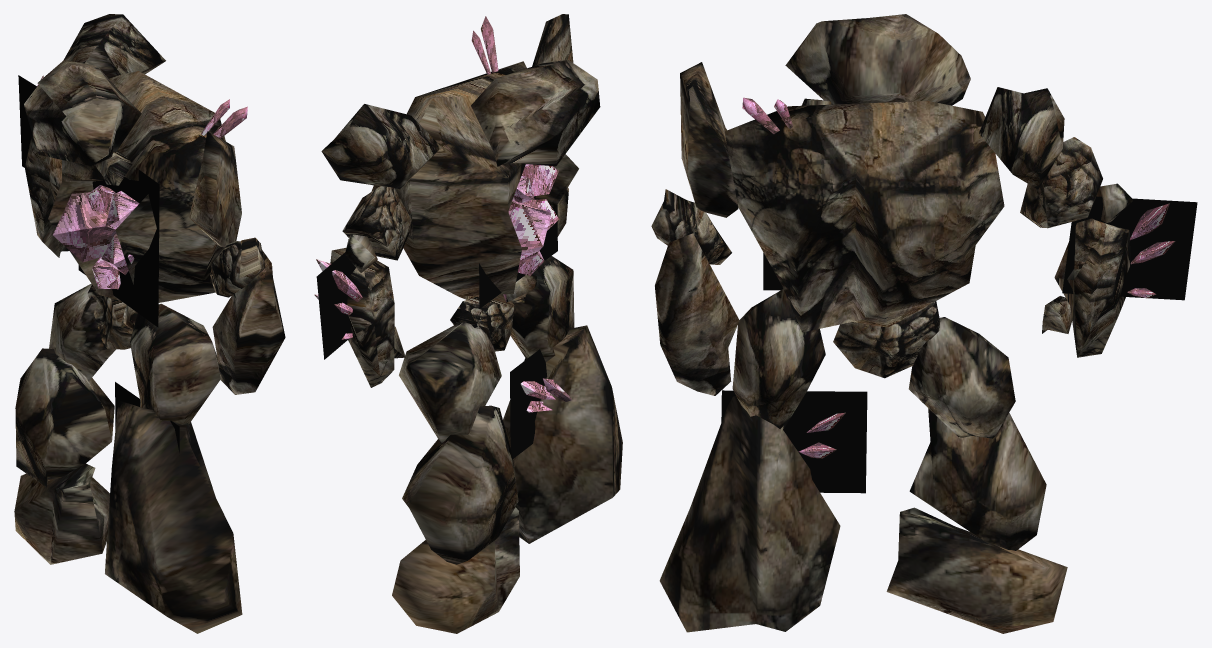
File: bst51a.obj
The picture shows the model from 3 angles, left to right: view 1: azimuth 30°, elevation 25°; view 2: azimuth 150°, elevation 25°; view 3: azimuth 270°, elevation 25°; orthographic projection. The views are drawn at different scales.
Visible parts, largest first — view 1: CREATURE10, REC0, RECTA0, RECTANG0; view 2: CREATURE10, RECTANG0, RECTA0, REC0; view 3: CREATURE10, RECTANG0, RECTA0.
Part boxes in pixels (<box>): CREATURE10: <box>14,14,285,633</box>; REC0: <box>78,169,159,327</box>; RECTA0: <box>18,75,36,167</box>; RECTANG0: <box>115,382,179,452</box>; CREATURE10: <box>314,14,622,633</box>; RECTANG0: <box>510,349,546,458</box>; RECTA0: <box>316,252,355,359</box>; REC0: <box>479,196,557,308</box>; CREATURE10: <box>651,14,1175,633</box>; RECTANG0: <box>721,390,867,493</box>; RECTA0: <box>1062,196,1197,300</box>.
Size of the model in its own units: 141 by 380 by 313.
Materials: 5 (2 with a texture image).
